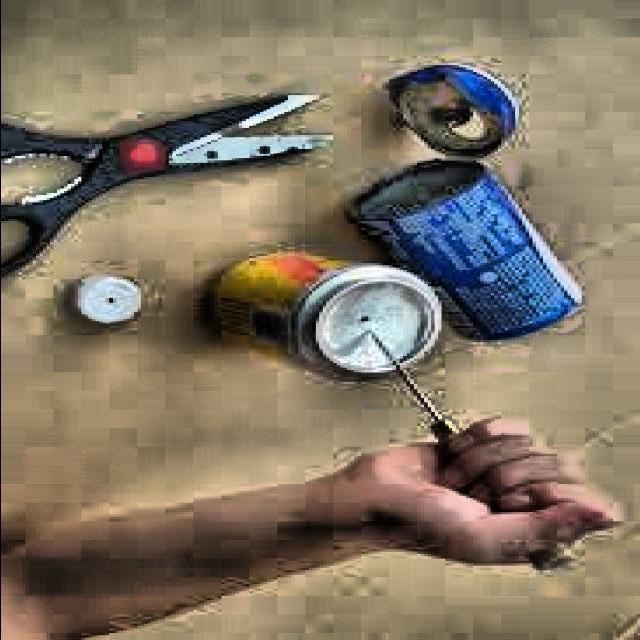Aluminum Can: (192, 248, 454, 384)
